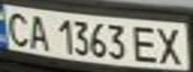1: (51, 16, 75, 54)
3: (106, 21, 130, 61), (69, 17, 90, 56)
6: (87, 19, 109, 60)
A: (24, 11, 51, 51)
C: (0, 8, 33, 47)
E: (130, 22, 163, 64)
X: (151, 24, 190, 66)
